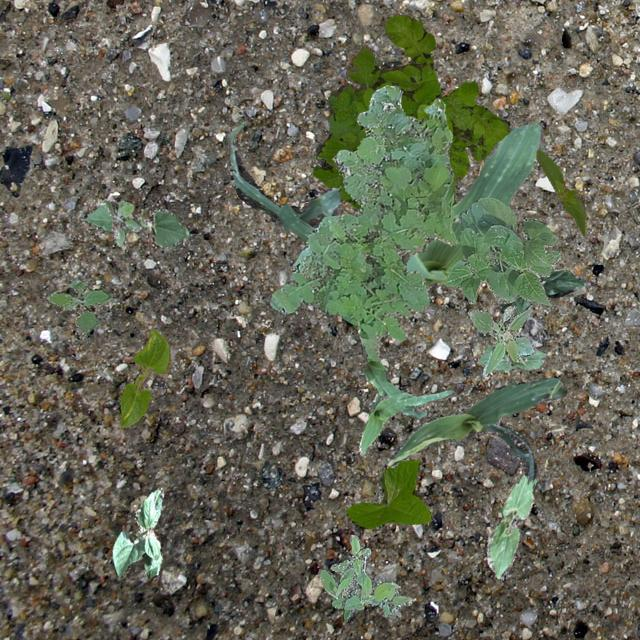crop: (224, 120, 542, 286), (386, 377, 566, 482), (444, 197, 560, 306), (358, 360, 452, 454), (344, 460, 430, 528), (486, 470, 536, 578), (119, 328, 170, 427), (110, 486, 162, 576), (84, 202, 188, 246), (534, 148, 586, 234), (500, 268, 584, 314), (476, 344, 544, 369)
weed: (268, 85, 458, 362), (312, 13, 509, 208), (318, 534, 411, 620), (468, 304, 534, 374), (46, 278, 110, 338), (105, 198, 141, 246)
